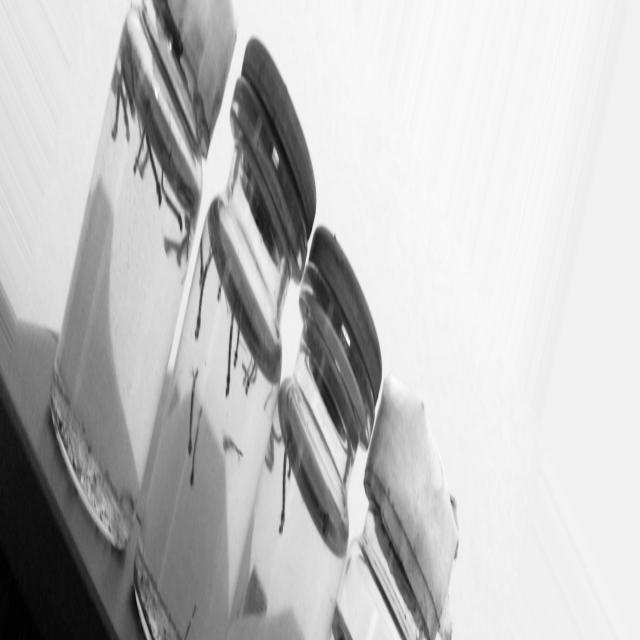larvas: (191, 243, 215, 346), (158, 168, 185, 235), (187, 407, 207, 487), (279, 433, 292, 538), (224, 305, 238, 395), (147, 141, 165, 208), (116, 80, 134, 143), (186, 368, 197, 456), (179, 598, 201, 640), (175, 216, 192, 268), (132, 127, 148, 174), (123, 72, 137, 120), (109, 92, 121, 141), (232, 313, 243, 366), (216, 264, 231, 301), (244, 360, 259, 395), (265, 427, 278, 467), (220, 434, 243, 454), (181, 175, 195, 207), (137, 150, 150, 182), (262, 378, 276, 407), (196, 238, 205, 283), (242, 356, 254, 388), (162, 236, 177, 256), (185, 221, 190, 262)
